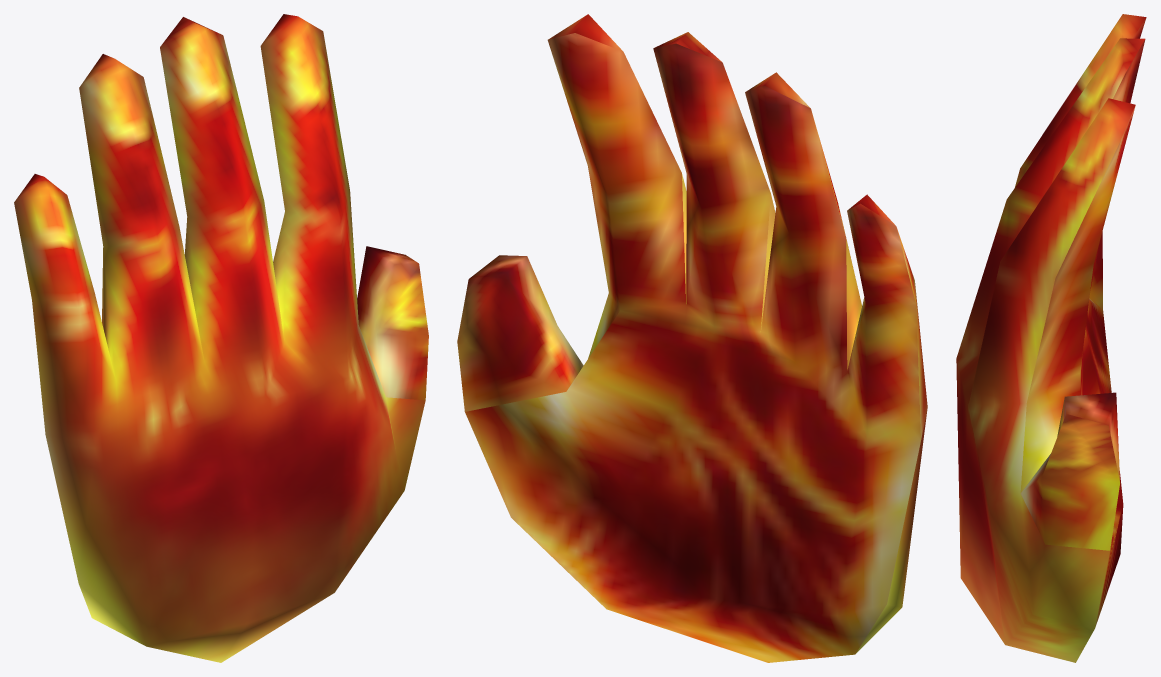
Rendered from Model_Hand.FBX.
The picture shows the model from 3 angles, left to right: view 1: azimuth 30°, elevation 25°; view 2: azimuth 150°, elevation 25°; view 3: azimuth 270°, elevation 25°; orthographic projection. The views are drawn at different scales.
Parts seen in each view (by area): view 1: Model_Hand; view 2: Model_Hand; view 3: Model_Hand.
Boxes of the visible parts, x1,y1,x2,y2 form: Model_Hand: [14, 14, 428, 662]; Model_Hand: [457, 14, 927, 662]; Model_Hand: [956, 14, 1146, 662].
Bounding box in the file's own units: 1.02 × 1.49 × 0.4157.
